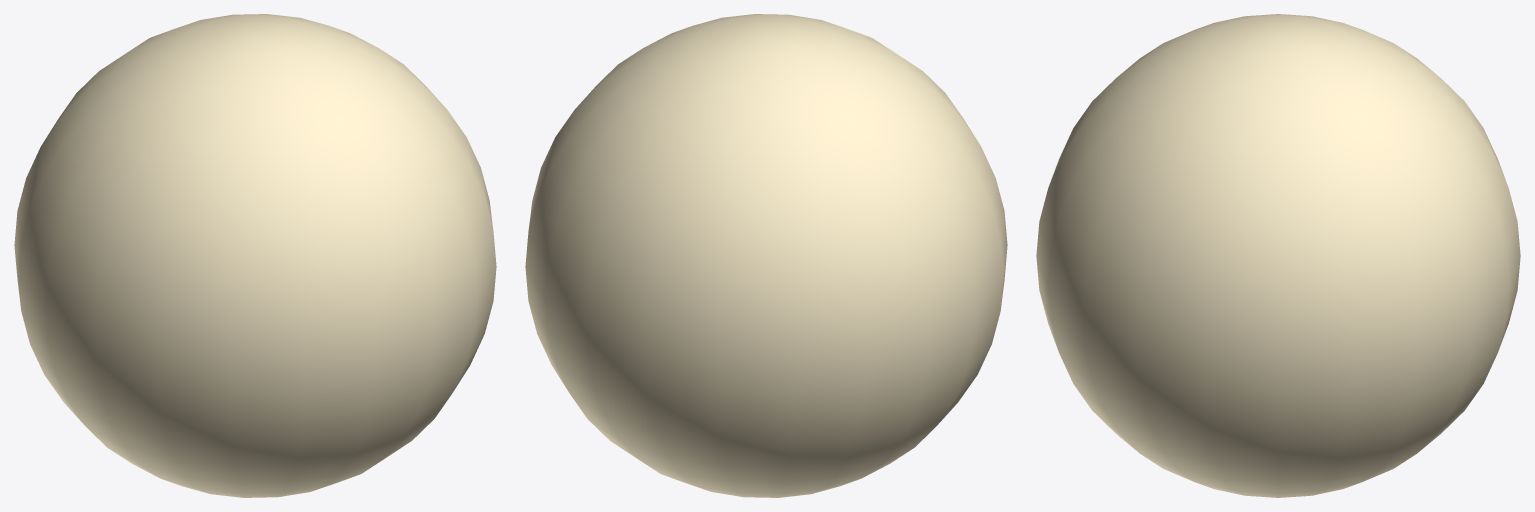
File: Env_007_Art.fbx
3 renders of one model, left to right at view 1: azimuth 30°, elevation 25°; view 2: azimuth 150°, elevation 25°; view 3: azimuth 270°, elevation 25°, orthographic.
Parts seen in each view (by area): view 1: MeshBaker_mesh_mesh_5.001; view 2: MeshBaker_mesh_mesh_5.001; view 3: MeshBaker_mesh_mesh_5.001.
Boxes of the visible parts, box(x1,y1,x2,y2) form: MeshBaker_mesh_mesh_5.001: box(14, 14, 496, 497); MeshBaker_mesh_mesh_5.001: box(525, 14, 1007, 497); MeshBaker_mesh_mesh_5.001: box(1036, 14, 1520, 497).
Bounding box in the file's own units: 18854 × 18854 × 18854.
